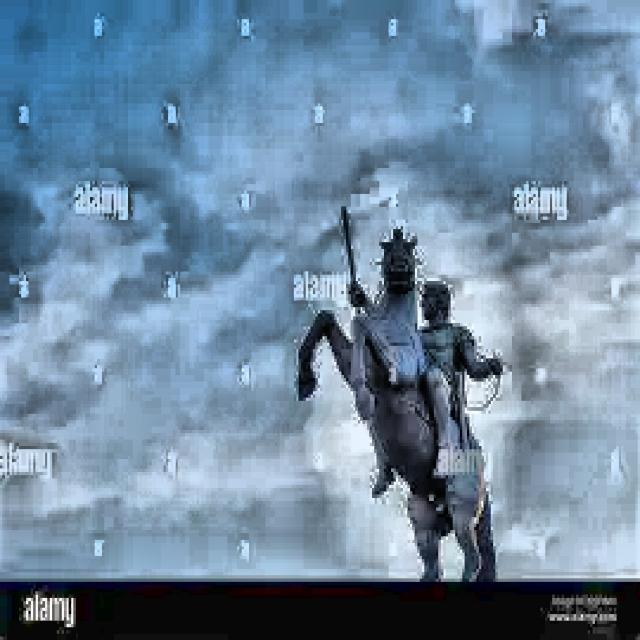alexander the great monument: (295, 198, 501, 572)
